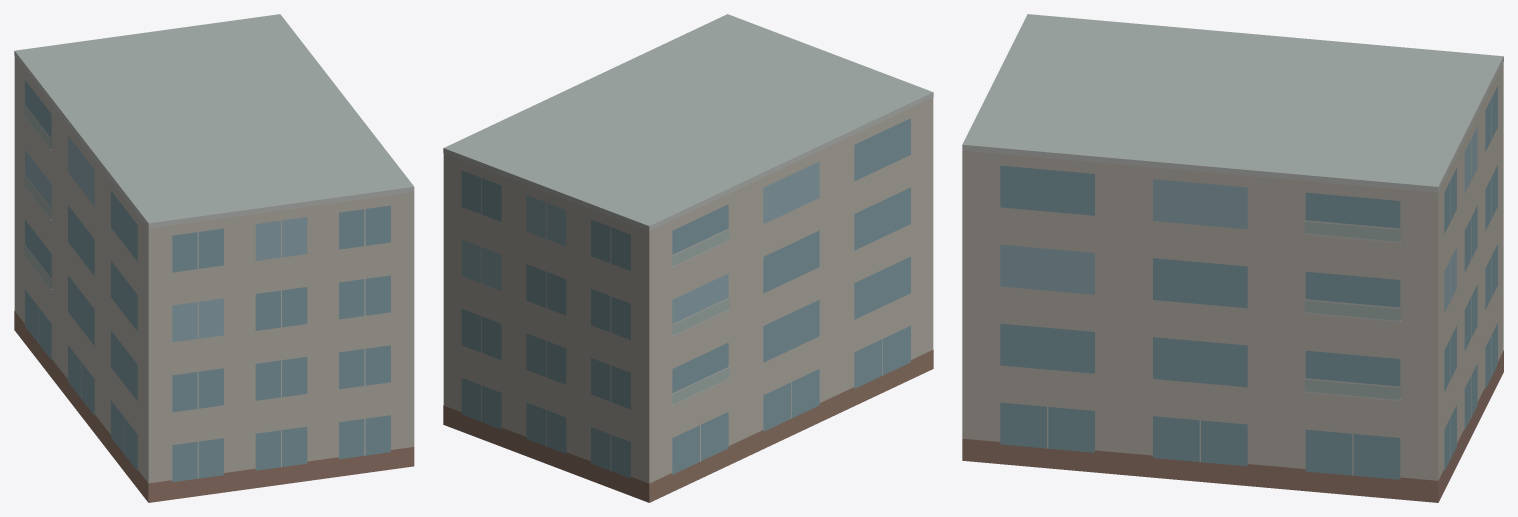
Rendered from survey-upis-32861497.glb.
The picture shows the model from 3 angles, left to right: view 1: azimuth 30°, elevation 25°; view 2: azimuth 150°, elevation 25°; view 3: azimuth 270°, elevation 25°; orthographic projection. The views are drawn at different scales.
Visible parts, largest first — view 1: survey-upis-32861497.tmp; view 2: survey-upis-32861497.tmp; view 3: survey-upis-32861497.tmp.
Boxes of the visible parts, x1,y1,x2,y2 form: survey-upis-32861497.tmp: (14,14,414,502); survey-upis-32861497.tmp: (443,14,933,502); survey-upis-32861497.tmp: (962,14,1503,502).
Bounding box in the file's own units: 15.56 × 13.25 × 20.58.
